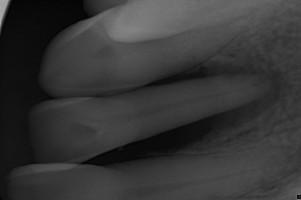Dental Caries: (187, 62, 285, 130)
